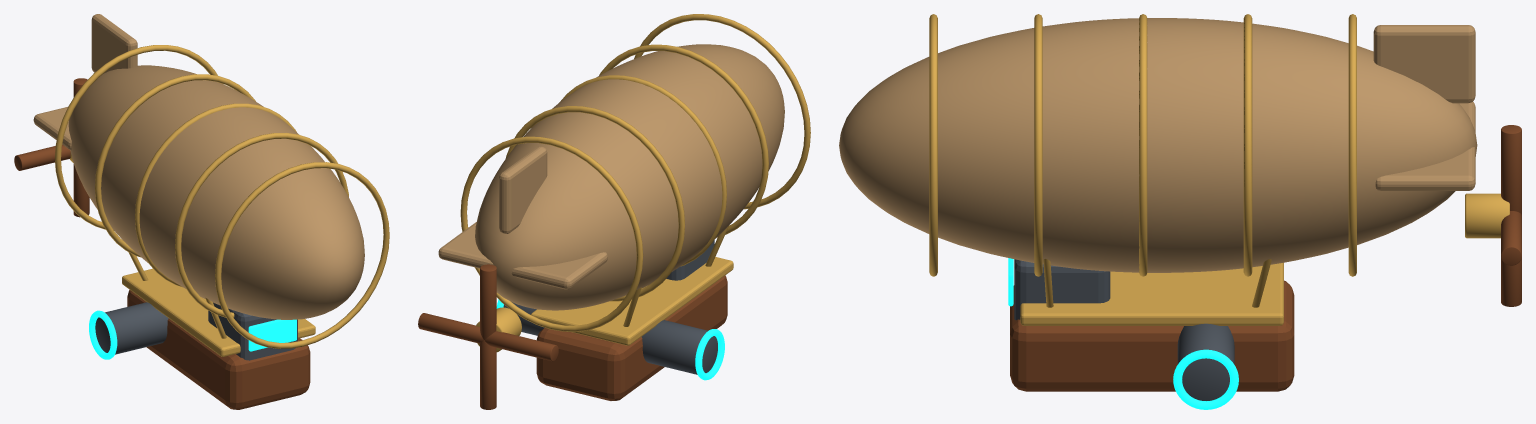
Rendered from steampunk_airship.glb.
3 views of the same model, side by side, from view 1: azimuth 30°, elevation 25°; view 2: azimuth 150°, elevation 25°; view 3: azimuth 270°, elevation 25° (orthographic). The views are drawn at different scales.
Parts seen in each view (by area): view 1: Airship_MainEnvelope, Airship_GondolaHull, Airship_GondolaDeck, Airship_EnvelopeBand_1, Airship_LeftEngine, Airship_EnvelopeBand_2, Airship_EnvelopeBand_5, Airship_EnvelopeBand_4, Airship_TailFinTop, Airship_EnvelopeBand_3, Airship_PilotCabin, Airship_CabinWindow (+4 smaller); view 2: Airship_MainEnvelope, Airship_GondolaHull, Airship_GondolaDeck, Airship_EnvelopeBand_5, Airship_LeftEngine, Airship_TailFinTop, Airship_EnvelopeBand_1, Airship_EnvelopeBand_4, Airship_EnvelopeBand_2, Airship_TailFinLeft, Airship_EnvelopeBand_3, Airship_TailFinRight (+8 smaller); view 3: Airship_MainEnvelope, Airship_GondolaHull, Airship_GondolaDeck, Airship_TailFinTop, Airship_PilotCabin, Airship_RightEngine, Airship_EnvelopeBand_4, Airship_TailFinRight, Airship_EnvelopeBand_1, Airship_EnvelopeBand_2, Airship_EnvelopeBand_5, Airship_EnvelopeBand_3 (+5 smaller).
Part boxes in pixels (box(x1,y1,x2,y2)): Airship_MainEnvelope: box(68, 65, 364, 319); Airship_GondolaHull: box(127, 290, 310, 409); Airship_GondolaDeck: box(122, 268, 315, 356); Airship_EnvelopeBand_1: box(215, 162, 389, 348); Airship_LeftEngine: box(95, 302, 168, 354); Airship_EnvelopeBand_2: box(175, 133, 348, 317); Airship_EnvelopeBand_5: box(55, 45, 217, 229); Airship_EnvelopeBand_4: box(95, 74, 255, 257); Airship_TailFinTop: box(91, 14, 137, 73); Airship_EnvelopeBand_3: box(135, 103, 296, 287); Airship_PilotCabin: box(208, 302, 297, 360); Airship_CabinWindow: box(248, 319, 296, 351); Airship_MainEnvelope: box(475, 44, 784, 310); Airship_GondolaHull: box(536, 275, 727, 400); Airship_GondolaDeck: box(531, 257, 733, 345); Airship_EnvelopeBand_5: box(460, 136, 643, 331); Airship_LeftEngine: box(642, 320, 717, 374); Airship_TailFinTop: box(499, 146, 547, 233); Airship_EnvelopeBand_1: box(634, 14, 810, 209); Airship_EnvelopeBand_4: box(505, 106, 684, 301); Airship_EnvelopeBand_2: box(599, 44, 768, 237); Airship_TailFinLeft: box(511, 252, 607, 289); Airship_EnvelopeBand_3: box(559, 75, 726, 266); Airship_TailFinRight: box(438, 222, 493, 268); Airship_MainEnvelope: box(839, 18, 1477, 272); Airship_GondolaHull: box(1010, 280, 1294, 391); Airship_GondolaDeck: box(1020, 262, 1283, 325); Airship_TailFinTop: box(1373, 25, 1475, 103); Airship_PilotCabin: box(1014, 259, 1110, 320); Airship_RightEngine: box(1177, 323, 1234, 400); Airship_EnvelopeBand_4: box(1243, 14, 1252, 276); Airship_TailFinRight: box(1375, 147, 1475, 190); Airship_EnvelopeBand_1: box(929, 14, 937, 276); Airship_EnvelopeBand_2: box(1034, 14, 1042, 276); Airship_EnvelopeBand_5: box(1348, 14, 1356, 276); Airship_EnvelopeBand_3: box(1139, 14, 1147, 276).
Bounding box in the file's own units: 0.9885 × 1.27 × 2.28.
